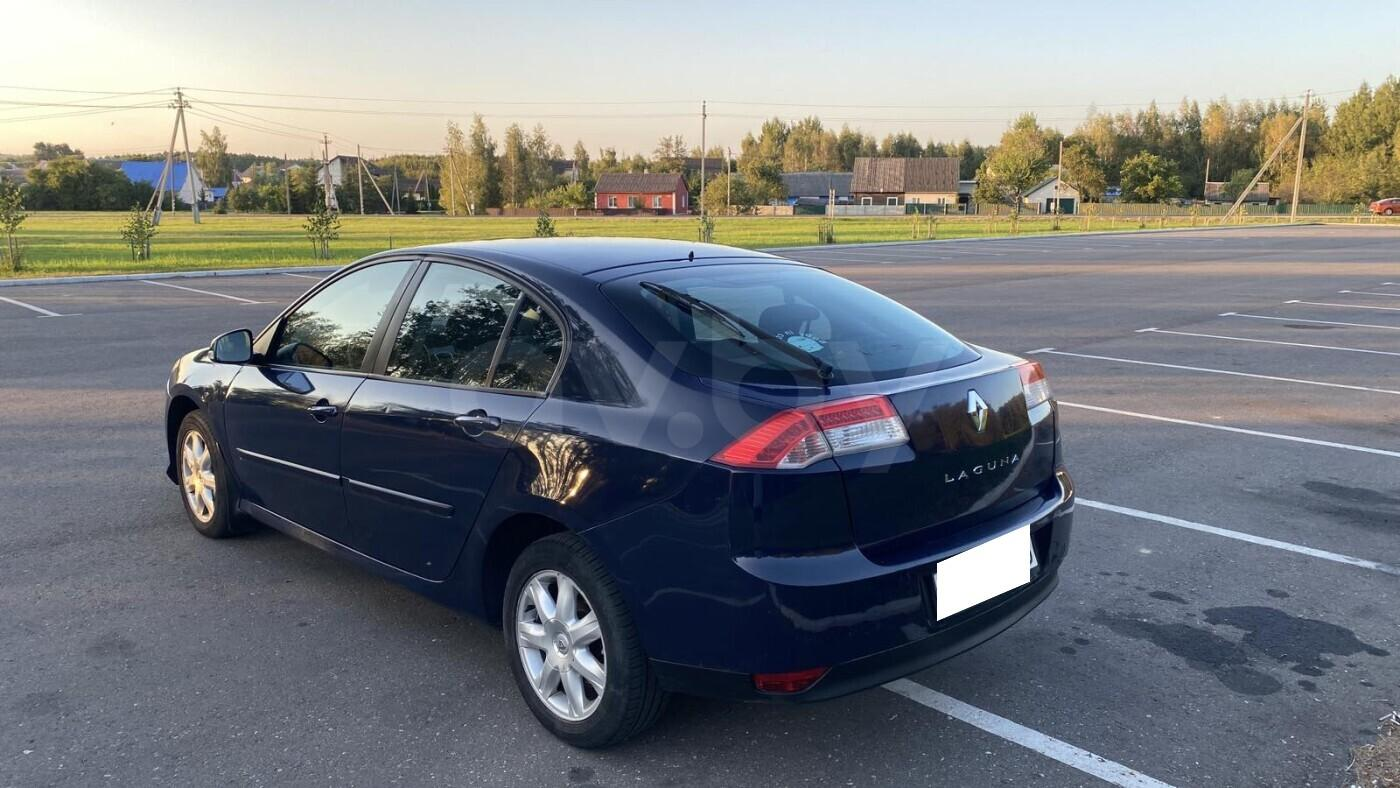Laguna_2007-2011: (165, 238, 1074, 747)
